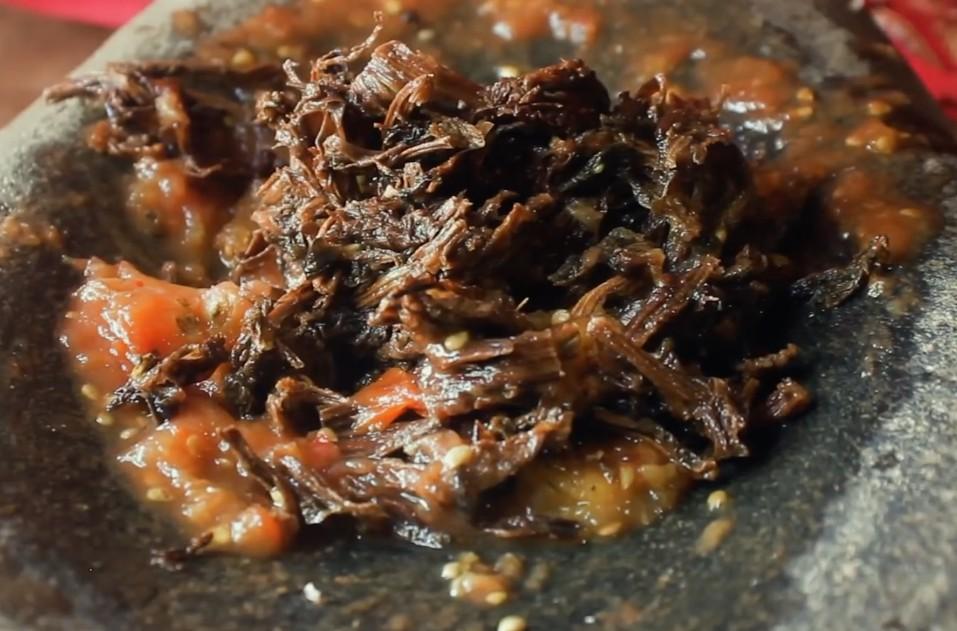gundruk: (101, 27, 803, 531)
